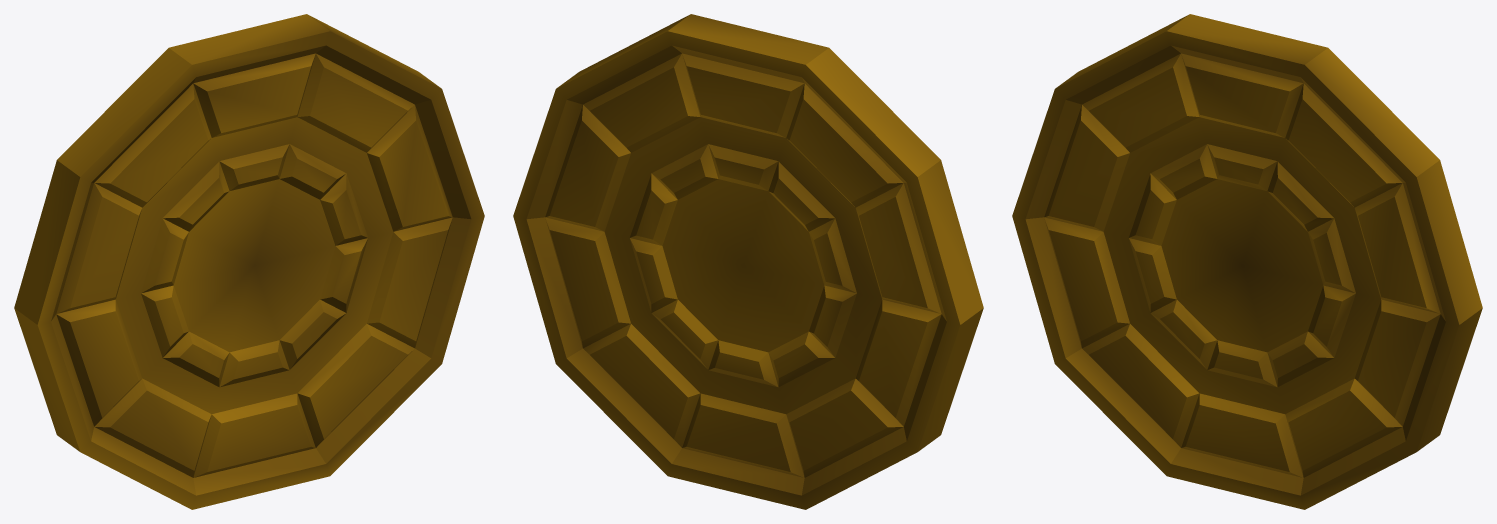
File: SkyShip_Coin_01.fbx
3 views of the same model, side by side, from view 1: azimuth 30°, elevation 25°; view 2: azimuth 150°, elevation 25°; view 3: azimuth 330°, elevation 25° (orthographic).
Parts seen in each view (by area): view 1: SkyShip_Coin_01; view 2: SkyShip_Coin_01; view 3: SkyShip_Coin_01.
Part boxes in pixels (left/top/right/bottom): SkyShip_Coin_01: left=14, top=14, right=484, bottom=509; SkyShip_Coin_01: left=513, top=14, right=983, bottom=509; SkyShip_Coin_01: left=1012, top=14, right=1482, bottom=509.
Size of the model in its own units: 100 by 95.33 by 9.11.
